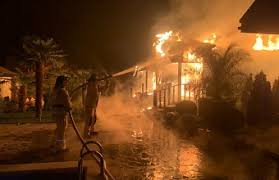fire: (148, 26, 277, 95)
